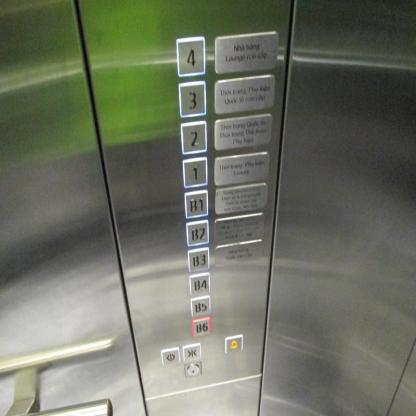1: (181, 155, 209, 189)
2: (179, 118, 208, 157)
3: (177, 79, 208, 119)
4: (174, 34, 206, 78)
B1: (183, 188, 209, 220)
B2: (184, 218, 210, 248)
B3: (186, 245, 211, 274)
B4: (188, 270, 211, 297)
B5: (189, 292, 212, 320)
B6: (191, 314, 212, 338)
alarm: (224, 332, 243, 354)
close: (182, 341, 202, 362)
keyhole: (183, 358, 202, 378)
open: (160, 345, 180, 366)
